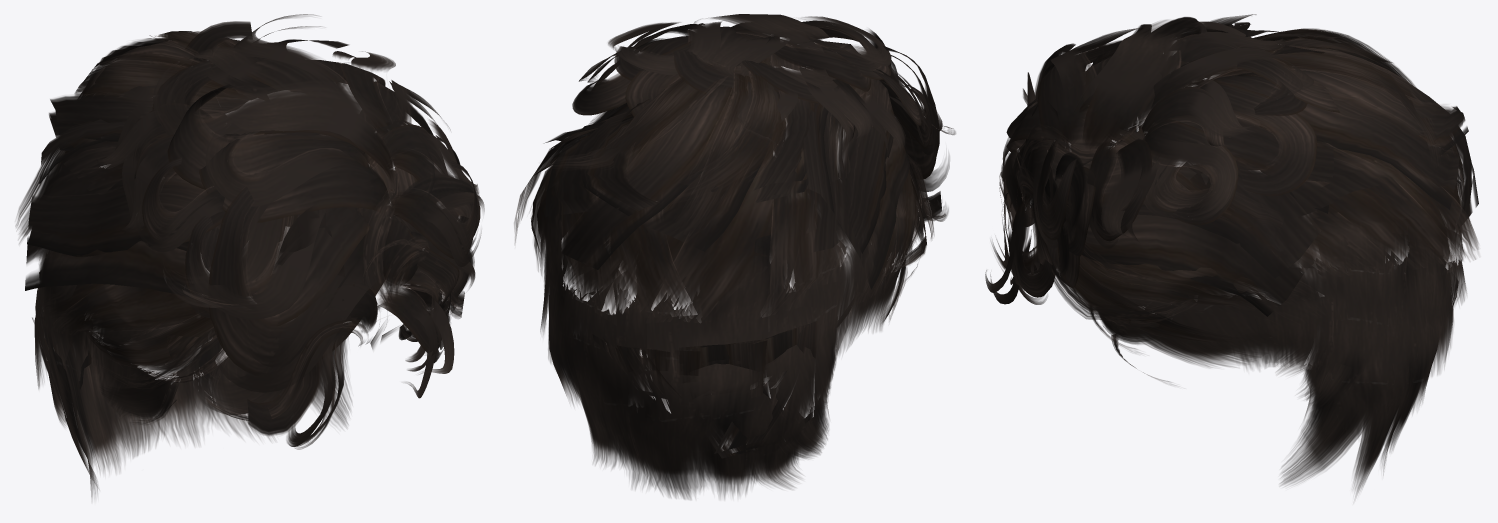
The model's file is diamond_wavy_02_wavy.glb.
The picture shows the model from 3 angles, left to right: view 1: azimuth 30°, elevation 25°; view 2: azimuth 150°, elevation 25°; view 3: azimuth 270°, elevation 25°; orthographic projection. The views are drawn at different scales.
Parts seen in each view (by area): view 1: SIDE PART.002, TRIANGLE - CURLY - SIDE PART.001; view 2: TRIANGLE - CURLY - SIDE PART.001, SIDE PART.002; view 3: TRIANGLE - CURLY - SIDE PART.001, SIDE PART.002.
Boxes of the visible parts, <box> form: SIDE PART.002: <box>89,14,484,449</box>; TRIANGLE - CURLY - SIDE PART.001: <box>15,31,464,497</box>; TRIANGLE - CURLY - SIDE PART.001: <box>514,41,934,499</box>; SIDE PART.002: <box>572,14,955,221</box>; TRIANGLE - CURLY - SIDE PART.001: <box>1016,28,1478,497</box>; SIDE PART.002: <box>985,14,1347,304</box>.
Bounding box in the file's own units: 0.2145 × 0.2554 × 0.2669.
Materials: 1 (1 with a texture image).
